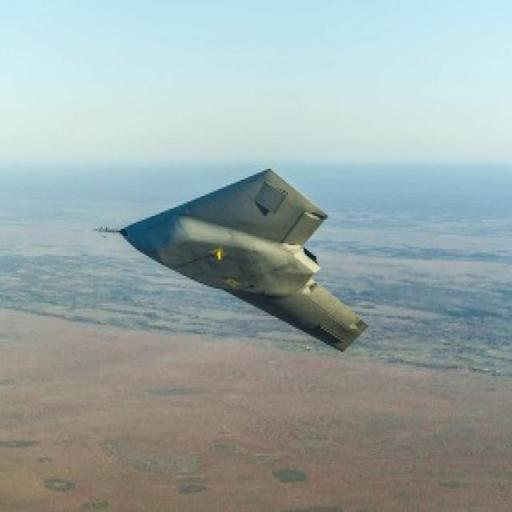uav: (102, 163, 384, 365)
